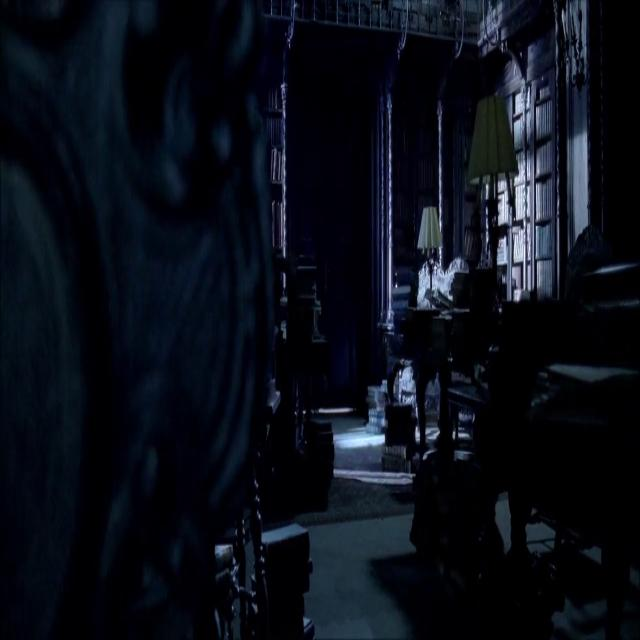Table: (449, 252, 532, 434), (261, 323, 331, 531), (394, 285, 453, 444)
